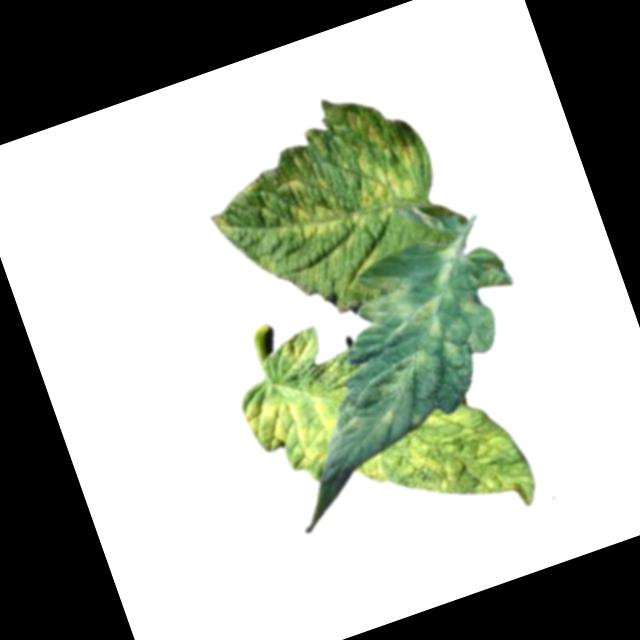Leaf_Mold: (183, 72, 442, 277), (349, 388, 548, 555), (341, 244, 496, 402), (234, 359, 356, 495)
